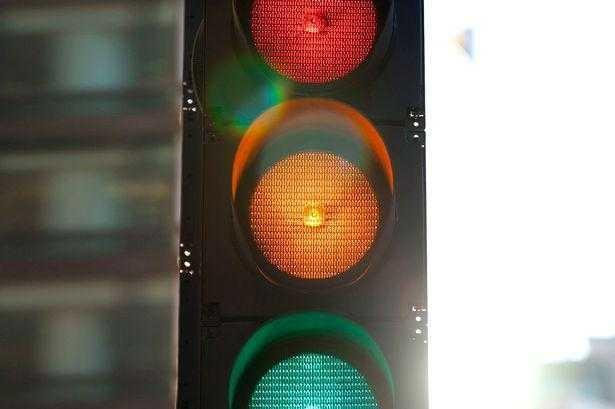5: (224, 0, 422, 85)
9: (216, 90, 424, 309)
red traffic light: (222, 318, 426, 409)
